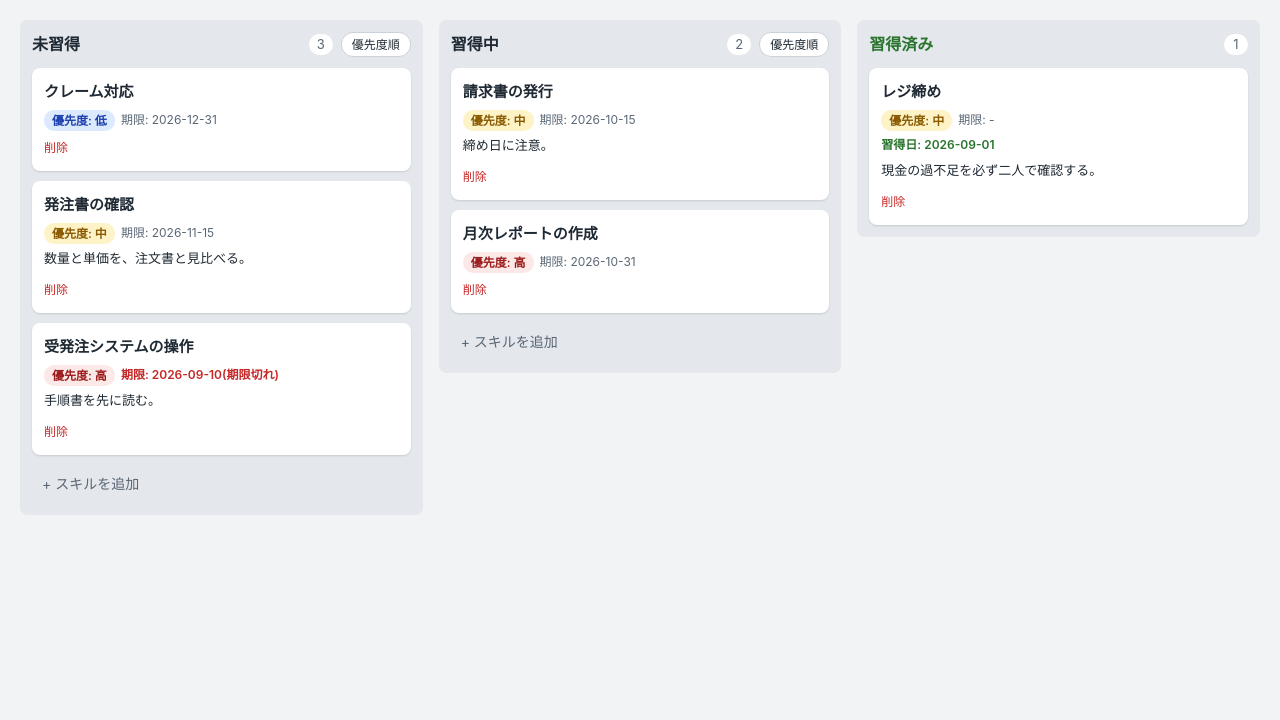
Test case: Board: スキルの追加 › 未習得の「+ スキルを追加」を押すと、追加フォーム(見出しに、追加先の列の名前)が開く
Click the button "+ スキルを追加" below "手順書を先に読む。" at (91, 483), box left=32, top=465, right=411, bottom=503
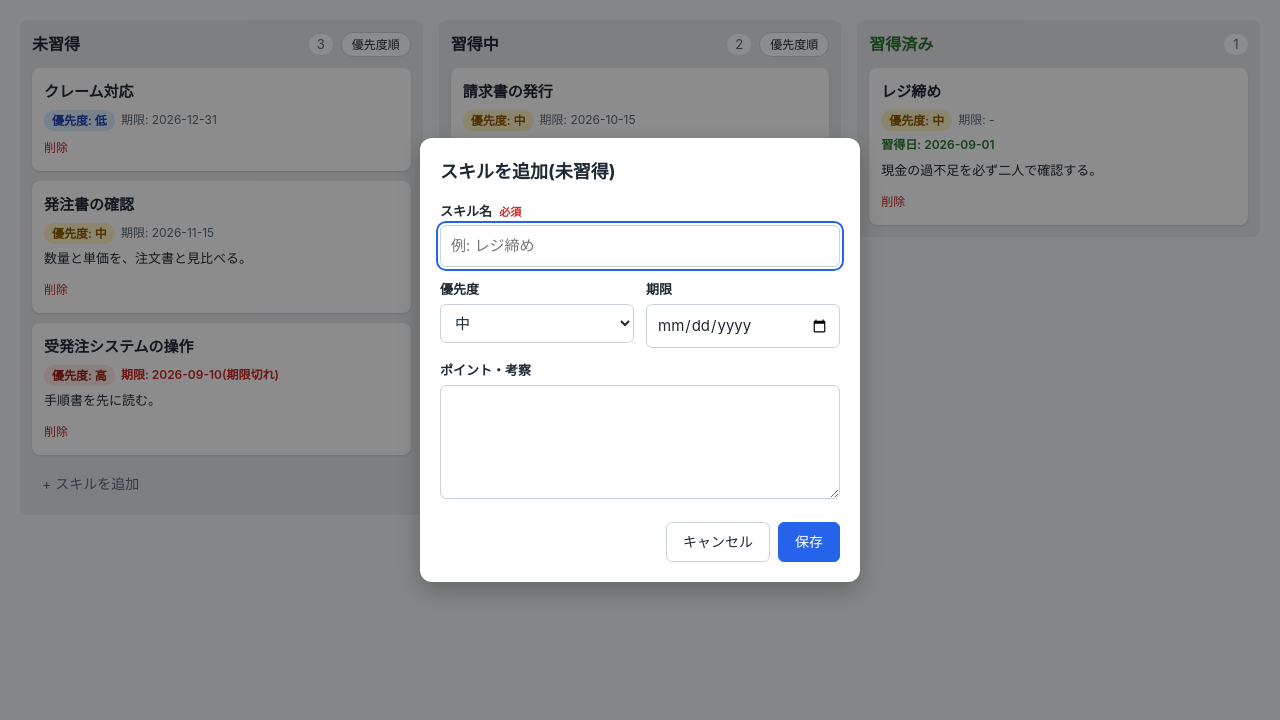
Now the dialog "スキルを追加(未習得)" is shown, box left=420, top=138, right=860, bottom=582
